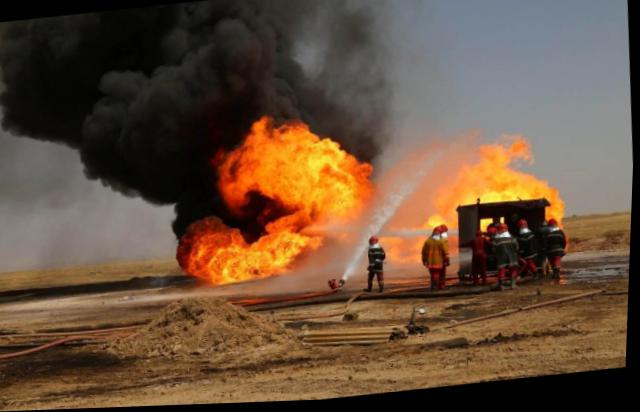fire: (223, 118, 326, 211), (319, 141, 379, 228), (456, 171, 547, 207), (186, 219, 248, 268), (211, 258, 295, 288), (471, 141, 534, 178), (268, 210, 311, 259), (421, 191, 461, 231), (388, 238, 428, 267), (244, 236, 272, 260), (545, 195, 566, 224), (307, 201, 326, 232), (308, 233, 330, 253), (193, 265, 211, 283)
smoke: (0, 0, 429, 140), (72, 128, 215, 214)
